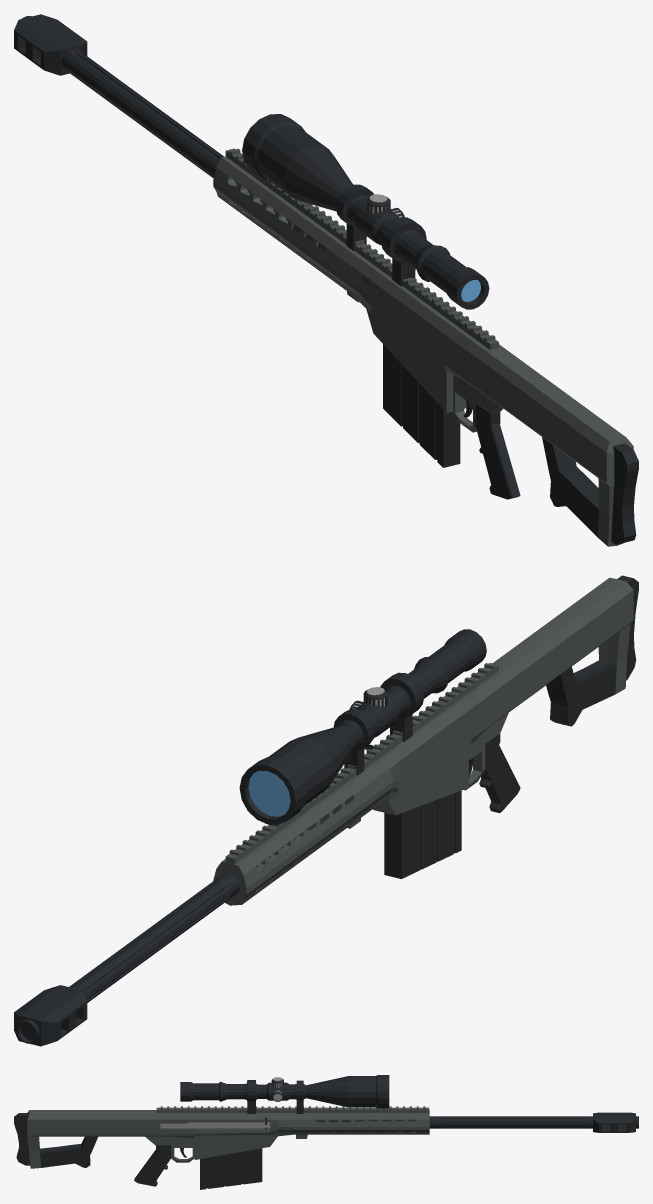
Rendered from Barret_M82.fbx.
3 views of the same model, one above another, from view 1: azimuth 30°, elevation 25°; view 2: azimuth 150°, elevation 25°; view 3: azimuth 270°, elevation 25° (orthographic). The views are drawn at different scales.
Visible parts, largest first — view 1: Barret M82; view 2: Barret M82; view 3: Barret M82.
Boxes of the visible parts, x1,y1,x2,y2 form: Barret M82: (14,14,638,546); Barret M82: (14,575,638,1046); Barret M82: (14,1075,638,1189).
Bounding box in the file's own units: 26.88 × 98.73 × 501.
